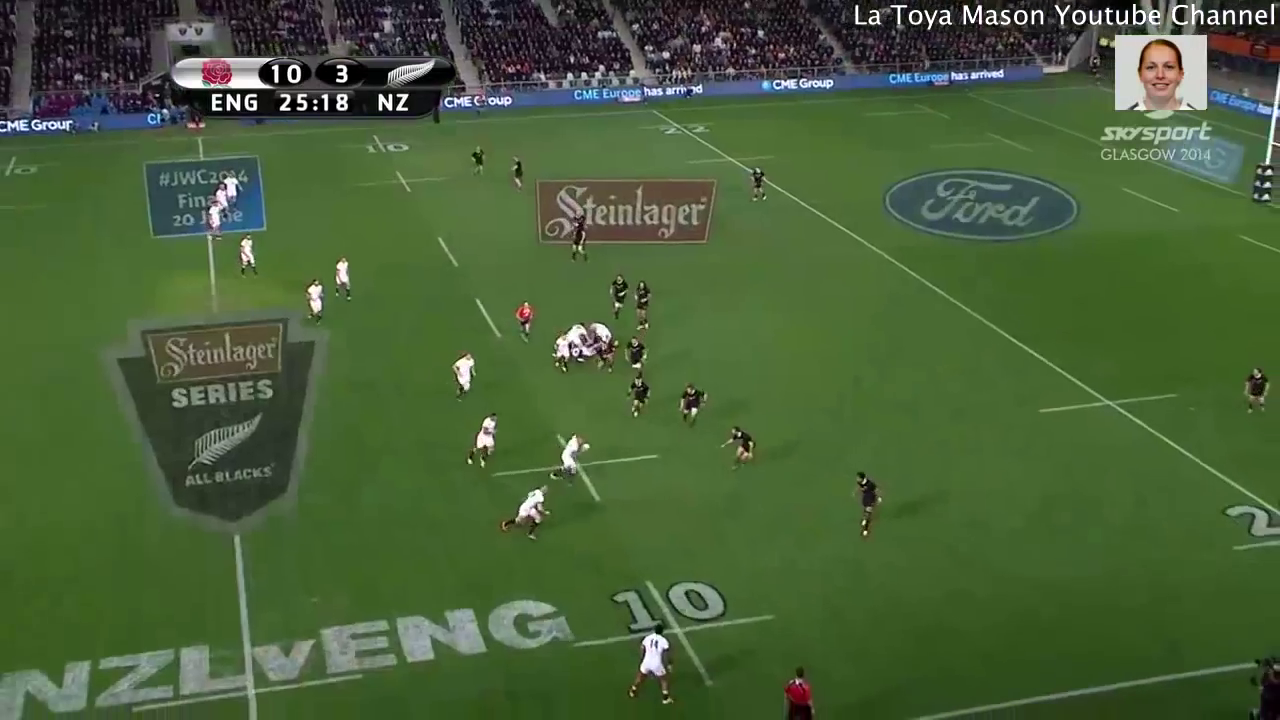10_metre: (565, 572, 790, 695), (485, 430, 668, 509), (345, 167, 454, 196), (325, 130, 433, 156)
ball: (577, 436, 592, 457)
player: (623, 617, 678, 704), (491, 483, 560, 546), (542, 425, 598, 491), (456, 410, 503, 474), (846, 469, 885, 546), (1237, 359, 1275, 426), (717, 421, 762, 476), (446, 348, 479, 408), (511, 295, 543, 356), (299, 271, 330, 331), (677, 381, 711, 433), (232, 227, 264, 279), (624, 372, 653, 429), (201, 191, 229, 246), (550, 329, 577, 383), (629, 276, 654, 334), (605, 268, 629, 324), (331, 252, 355, 307), (624, 334, 654, 378), (568, 220, 592, 266), (748, 163, 772, 206), (211, 181, 236, 221), (507, 153, 529, 196), (596, 338, 622, 372), (222, 168, 242, 208), (469, 144, 491, 180), (566, 317, 588, 342), (588, 321, 614, 342), (569, 210, 587, 229)
